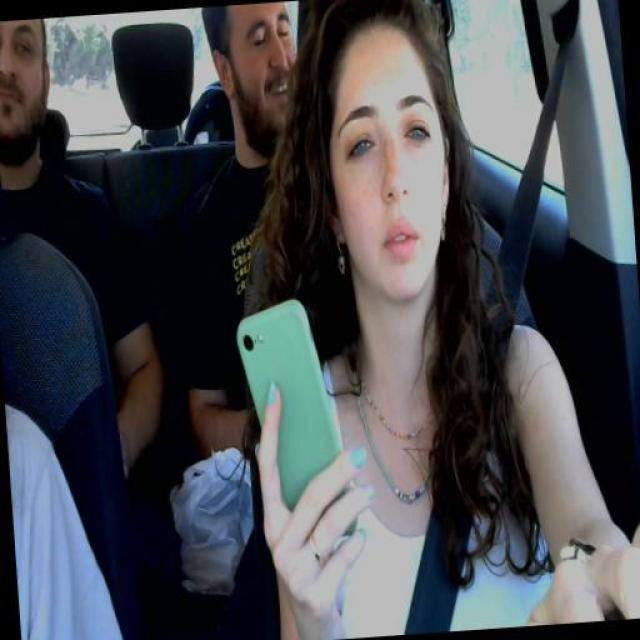phone: (232, 296, 354, 541)
